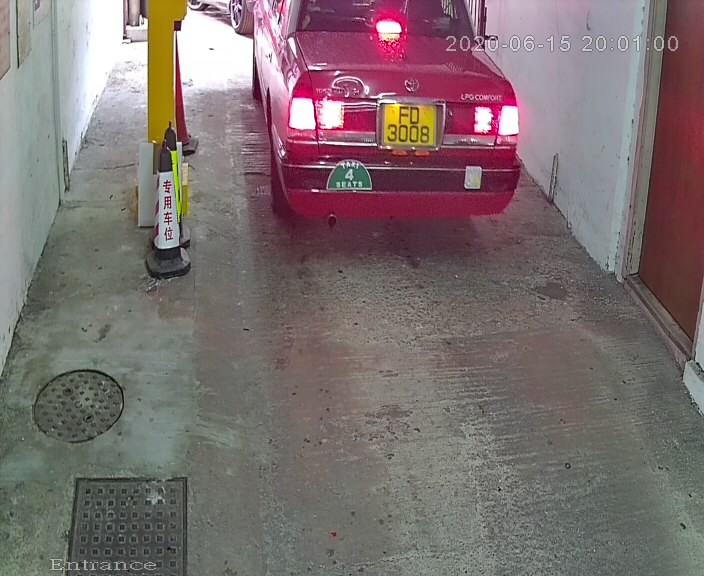taxi: (325, 157, 375, 200)
taxi_mark: (231, 2, 528, 241)
